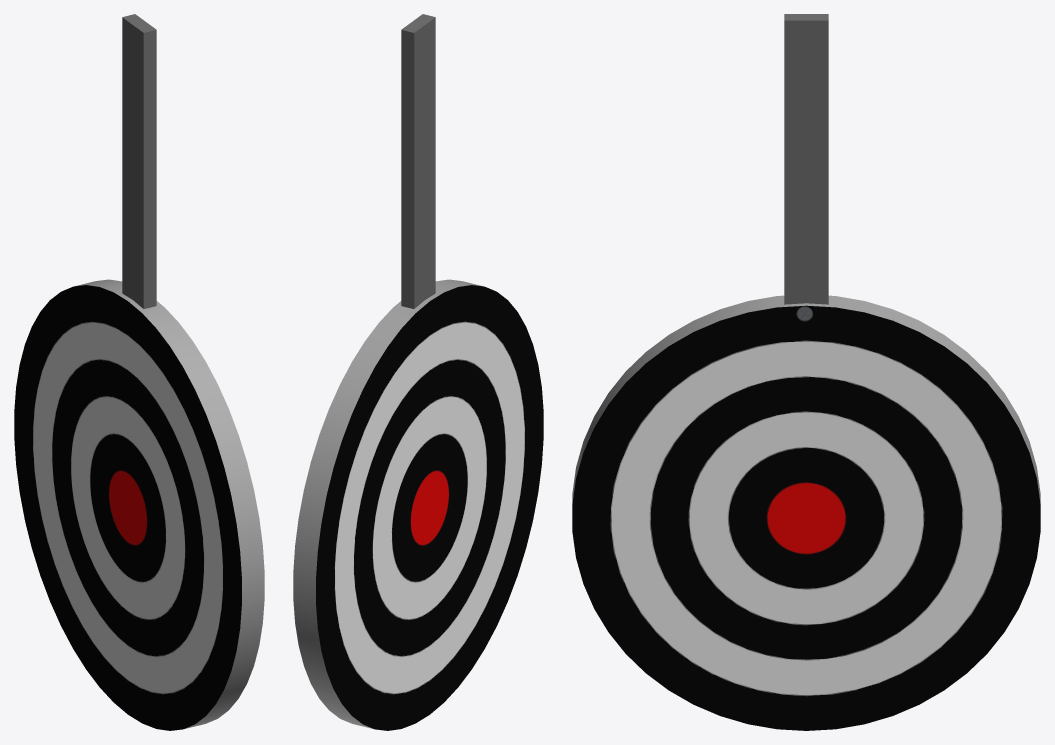
File: target_atas.glb
3 views of the same model, side by side, from view 1: azimuth 30°, elevation 25°; view 2: azimuth 150°, elevation 25°; view 3: azimuth 270°, elevation 25° (orthographic). The views are drawn at different scales.
Parts seen in each view (by area): view 1: pCube3; view 2: pCube3; view 3: pCube3.
Boxes of the visible parts, x1=… form: pCube3: x1=14, y1=14, x2=264, y2=730; pCube3: x1=293, y1=14, x2=543, y2=730; pCube3: x1=572, y1=14, x2=1040, y2=730.
Size of the model in its own units: 0.0555 by 1.61 by 0.9621.
Materials: 1 (1 with a texture image).
